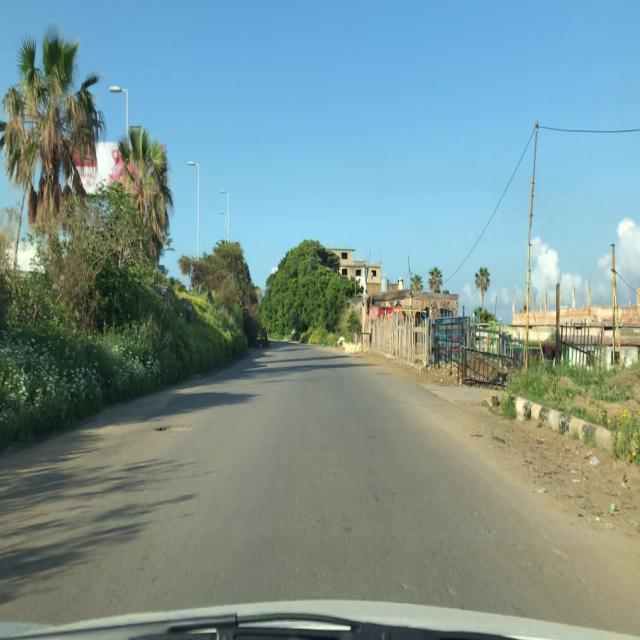pothole: (151, 422, 198, 435)
